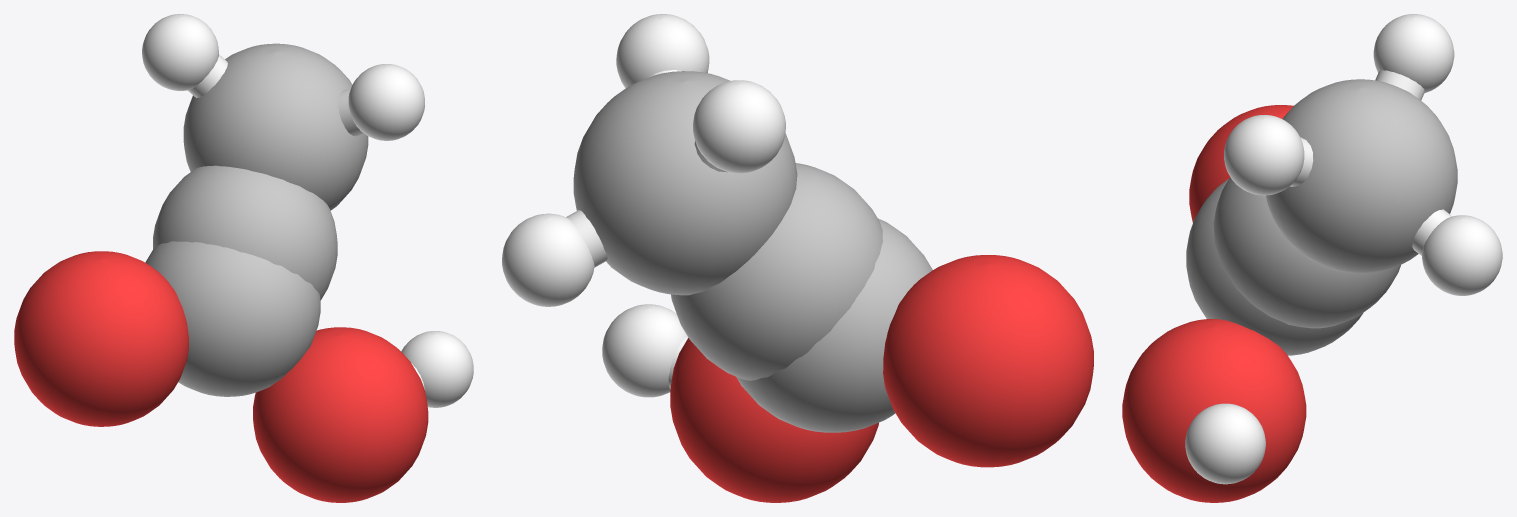
Rendered from CH3COOH.glb.
3 views of the same model, side by side, from view 1: azimuth 30°, elevation 25°; view 2: azimuth 150°, elevation 25°; view 3: azimuth 270°, elevation 25° (orthographic). The views are drawn at different scales.
Visible parts, largest first — view 1: Carbon_ball (×4), Oxygen_ball (×4), Hydrogen_ball (×5); view 2: Carbon_ball (×4), Oxygen_ball (×2), Hydrogen_ball (×7); view 3: Carbon_ball (×4), Oxygen_ball (×3), Hydrogen_ball (×7).
Part boxes in pixels (left/top/right/bottom): Carbon_ball (×4): left=145, top=43, right=368, bottom=396; Oxygen_ball (×4): left=14, top=251, right=428, bottom=502; Hydrogen_ball (×5): left=142, top=14, right=473, bottom=407; Carbon_ball (×4): left=573, top=71, right=932, bottom=432; Oxygen_ball (×2): left=670, top=255, right=1093, bottom=502; Hydrogen_ball (×7): left=502, top=14, right=785, bottom=397; Carbon_ball (×4): left=1186, top=79, right=1457, bottom=355; Oxygen_ball (×3): left=1122, top=105, right=1306, bottom=502; Hydrogen_ball (×7): left=1185, top=14, right=1502, bottom=484.
Size of the model in its own units: 3.99 by 3.88 by 3.01.
